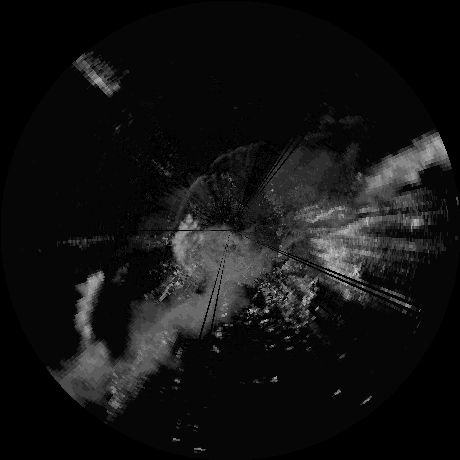frontgust: (174, 178, 204, 232), (211, 148, 251, 164)
